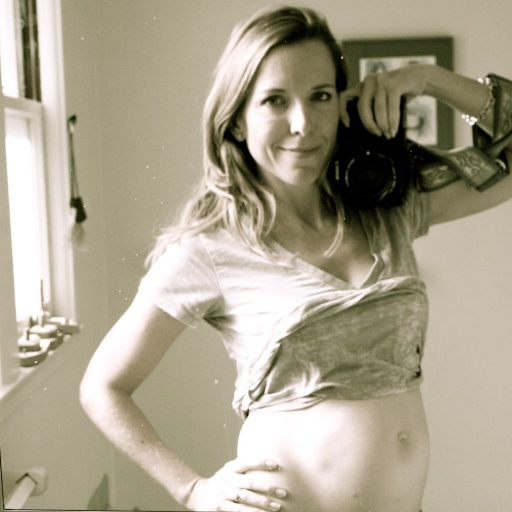hand: (365, 62, 443, 137), (188, 456, 286, 511)
